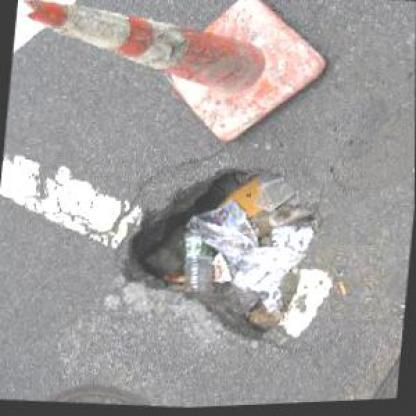pothole: (111, 151, 326, 351)
